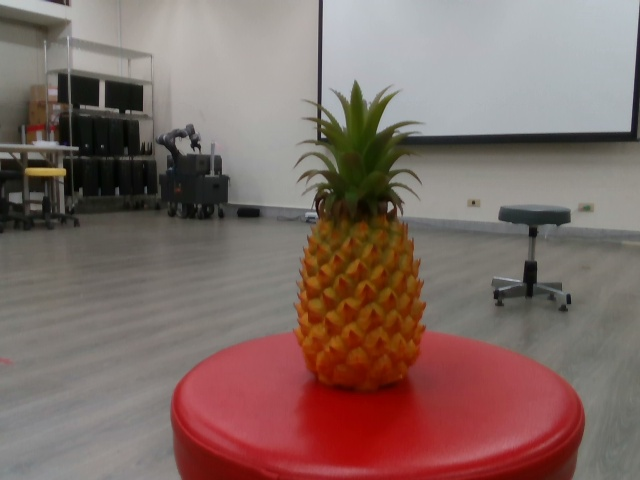pineapple: (291, 75, 431, 393)
